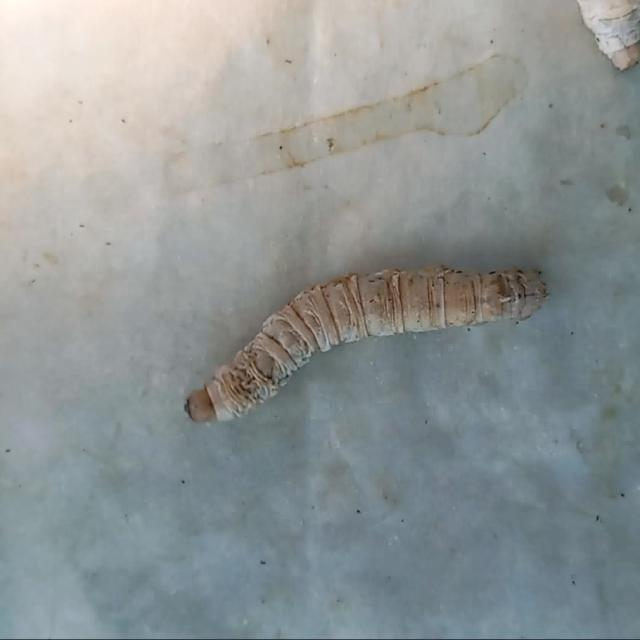Grasserie: (169, 226, 583, 460)
